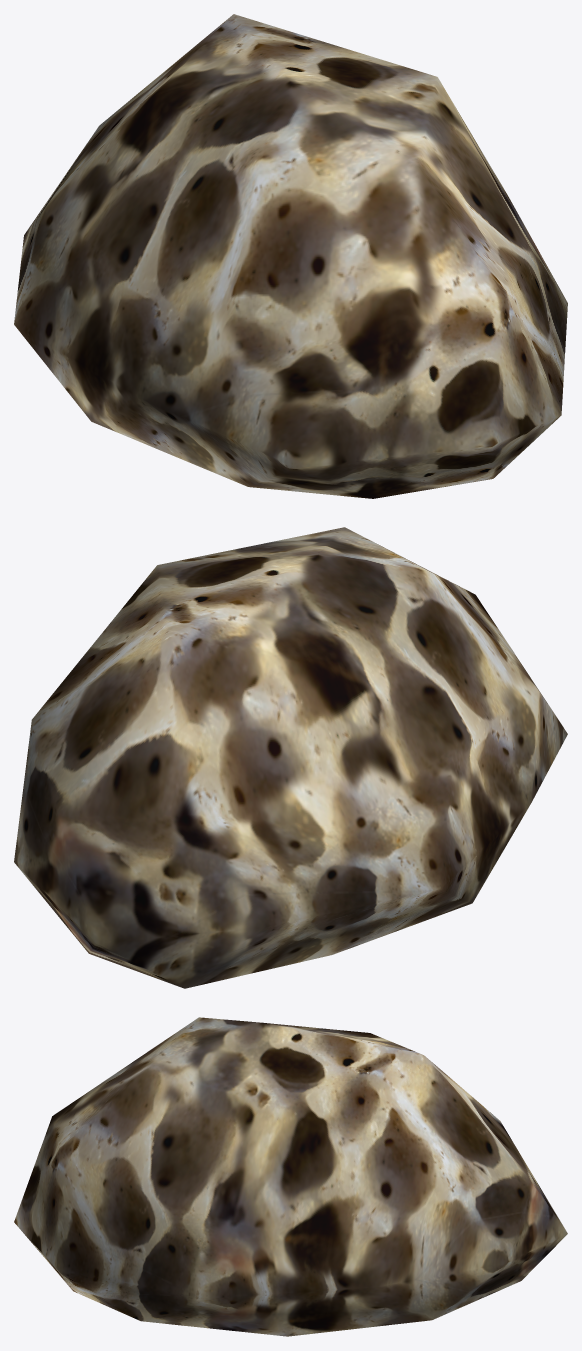
The model's file is CoralStone-01_LOD0.fbx.
The picture shows the model from 3 angles, top to bottom: view 1: azimuth 30°, elevation 25°; view 2: azimuth 150°, elevation 25°; view 3: azimuth 270°, elevation 25°; orthographic projection. The views are drawn at different scales.
Visible parts, largest first — view 1: CoralStone-01_high; view 2: CoralStone-01_high; view 3: CoralStone-01_high.
Boxes of the visible parts, x1,y1,x2,y2 form: CoralStone-01_high: [14, 14, 567, 498]; CoralStone-01_high: [14, 527, 567, 988]; CoralStone-01_high: [14, 1017, 567, 1336].
Bounding box in the file's own units: 0.1385 × 0.1 × 0.2.
